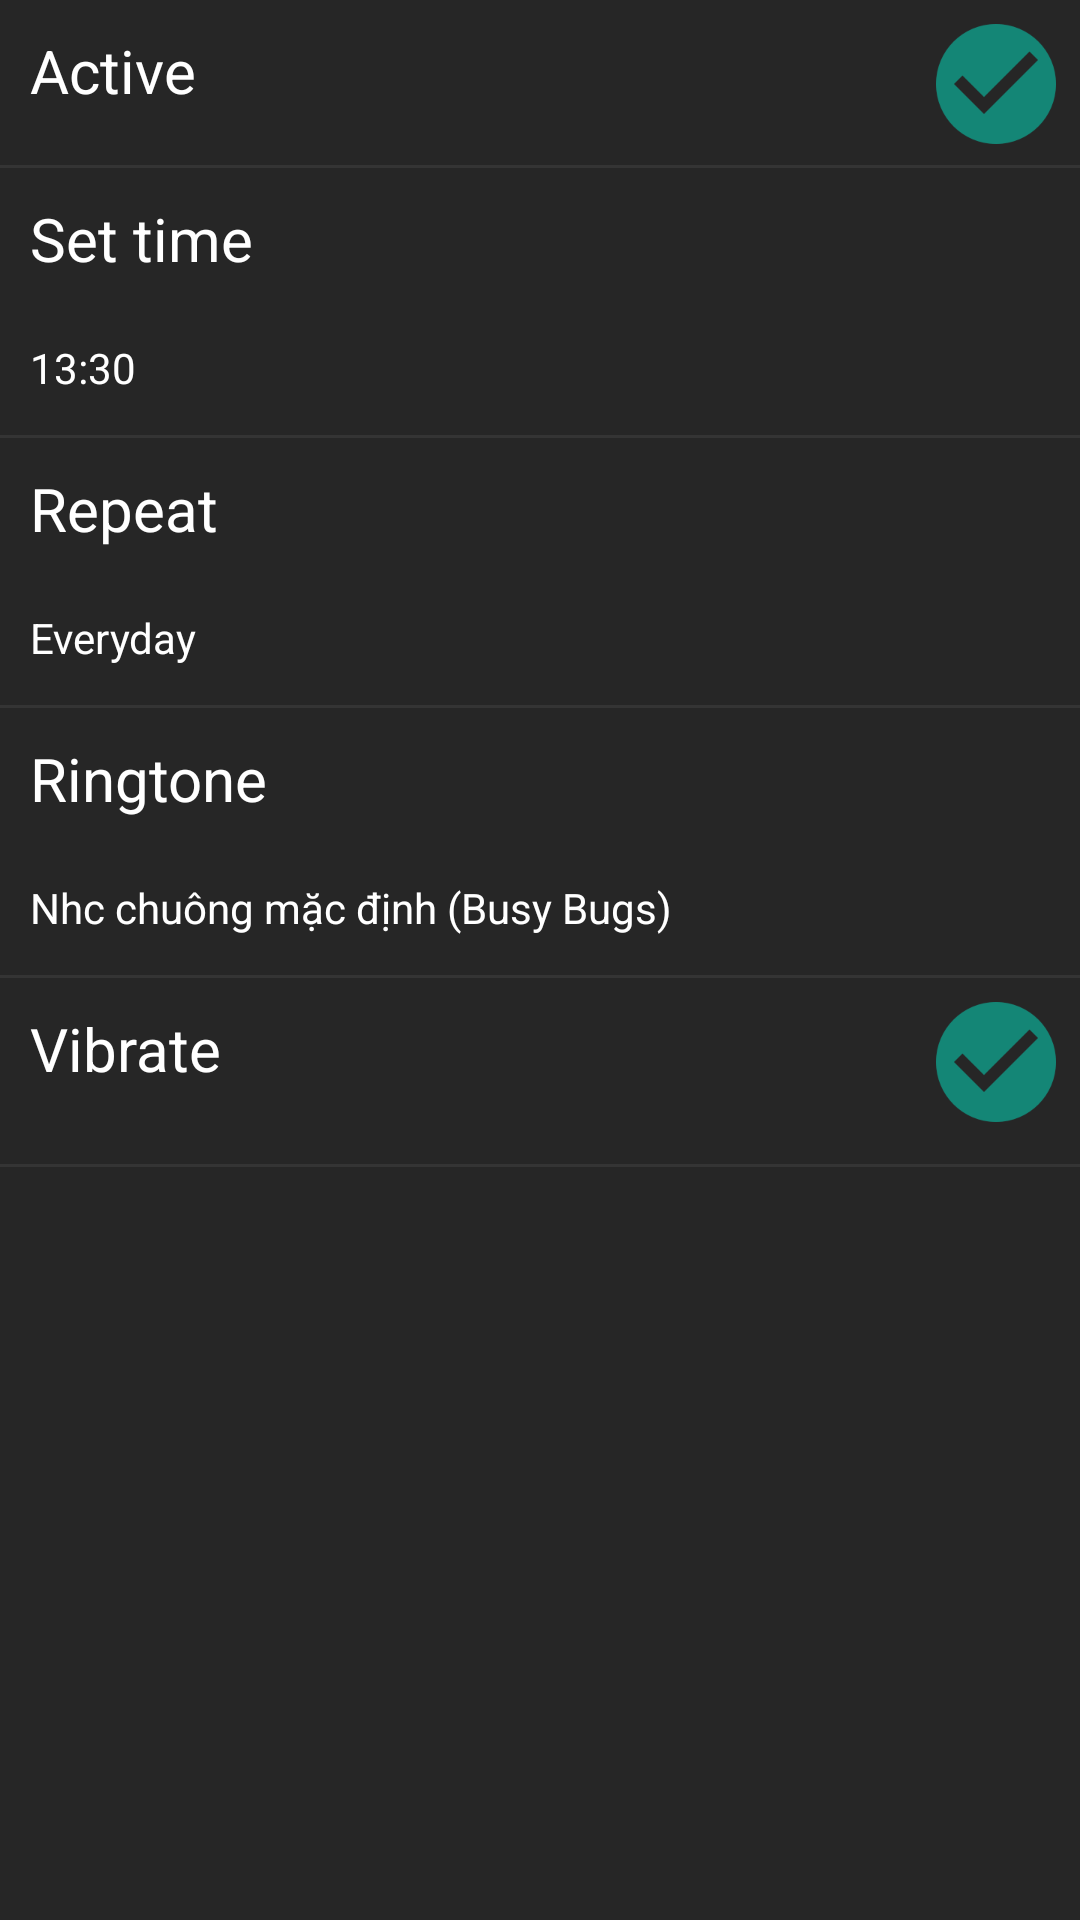

Named icons in this screenshot (1080w x 1920h) and their centers, (x,y):
check: (996,84), (996,1062)
